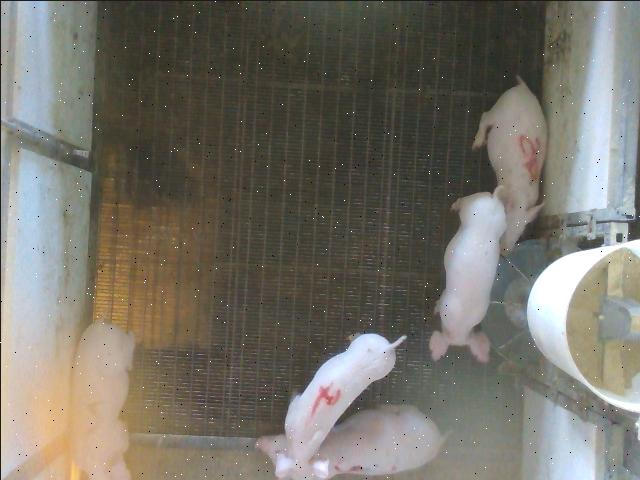pig-2: (71, 319, 134, 478)
pig-3: (318, 404, 445, 476)
pig-4: (274, 332, 404, 479)
pig-5: (471, 75, 546, 254)
